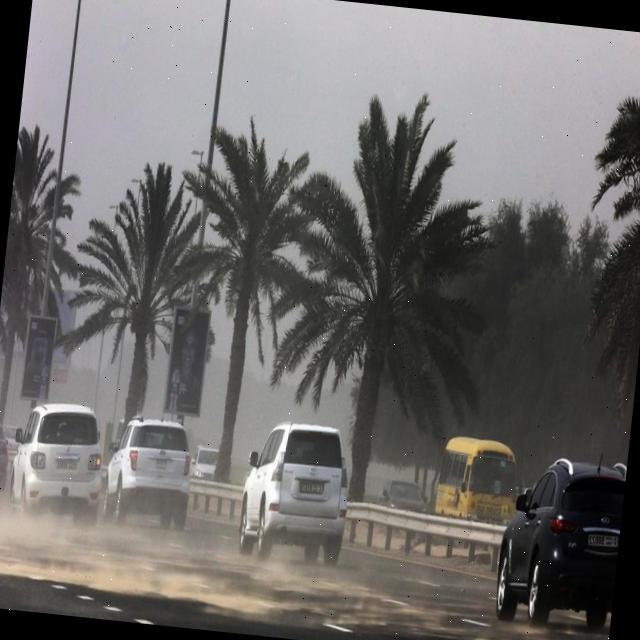car: (488, 453, 626, 633), (234, 414, 358, 568), (5, 394, 110, 520), (100, 412, 198, 528), (381, 478, 428, 511), (0, 418, 15, 490), (190, 444, 219, 480)
truck: (434, 434, 522, 519)
